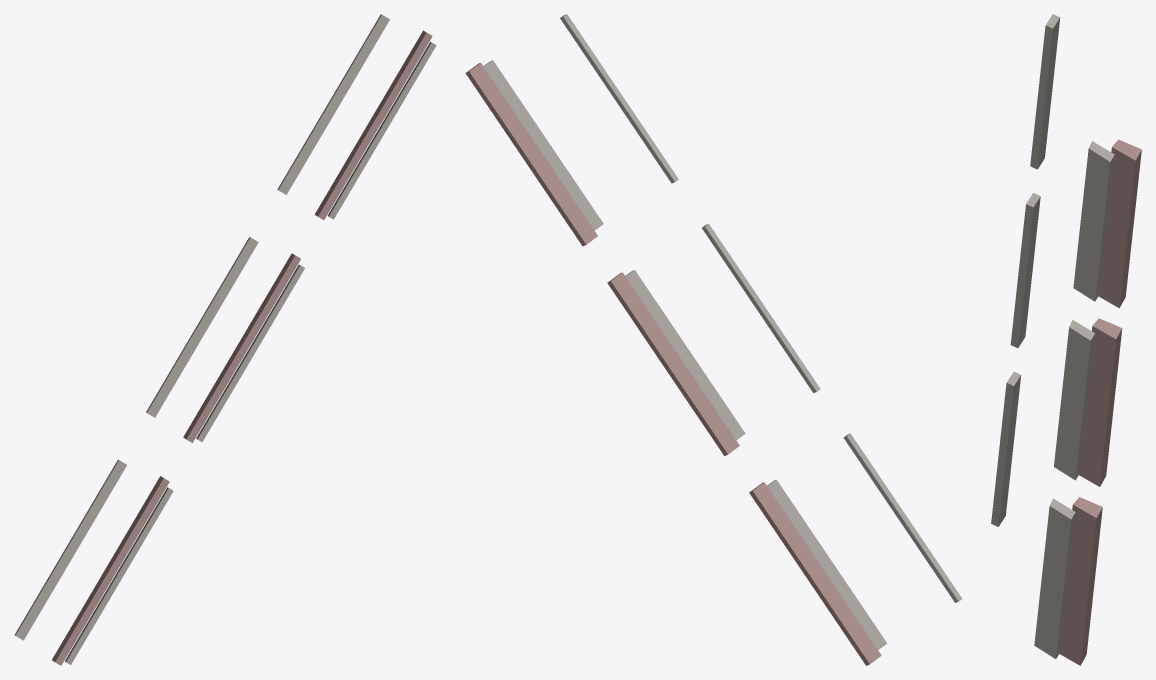
3 renders of one model, left to right at view 1: azimuth 30°, elevation 25°; view 2: azimuth 150°, elevation 25°; view 3: azimuth 270°, elevation 25°, orthographic. The views are drawn at different scales.
Visible parts, largest first — view 1: mesh; view 2: mesh; view 3: mesh.
Boxes of the visible parts, x1,y1,x2,y2 form: mesh: (14,14,436,665); mesh: (465,14,962,665); mesh: (991,14,1141,665).
Size of the model in its own units: 6.17 by 7.43 by 1.15.
